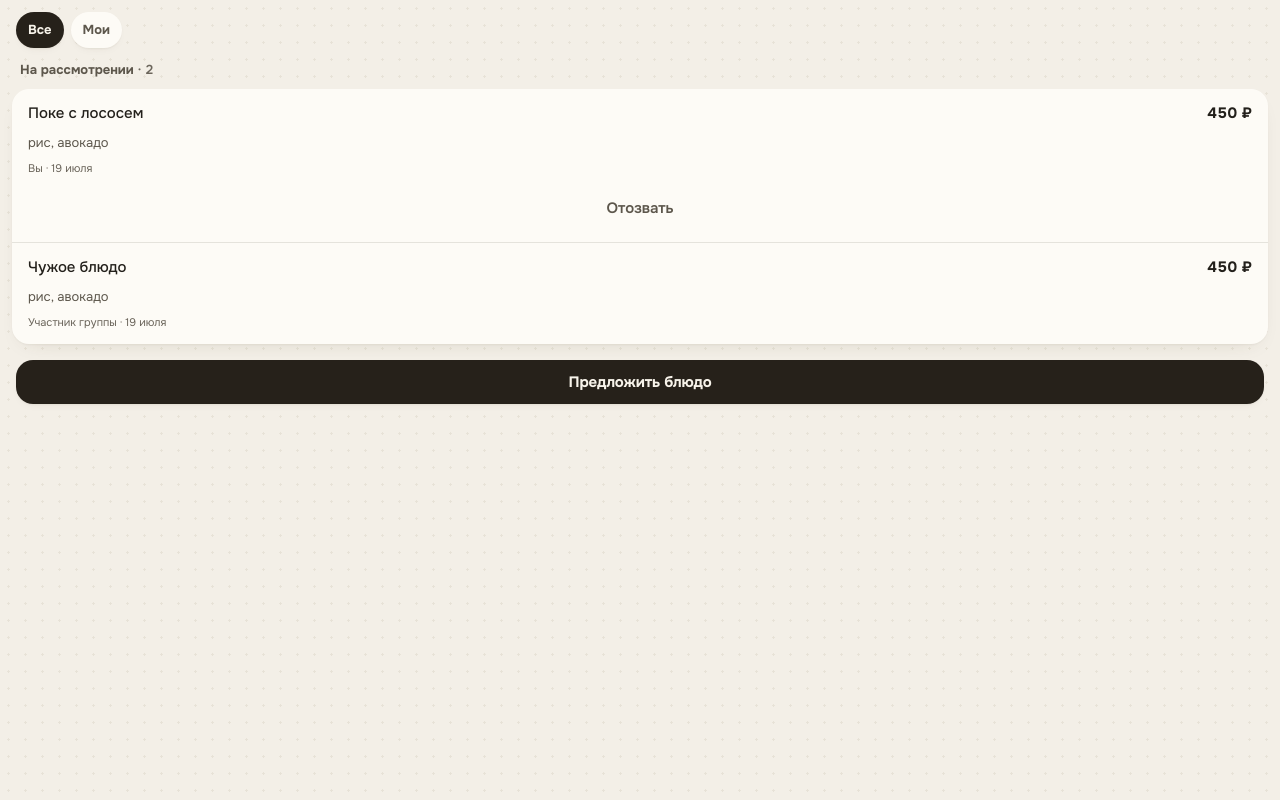
Test: SuggestionsPage — участник › фильтр «Мои» показывает только свои
The image size is (1280, 800).
Click the tab "Мои".
click(96, 30)  # box [71,12,122,48]
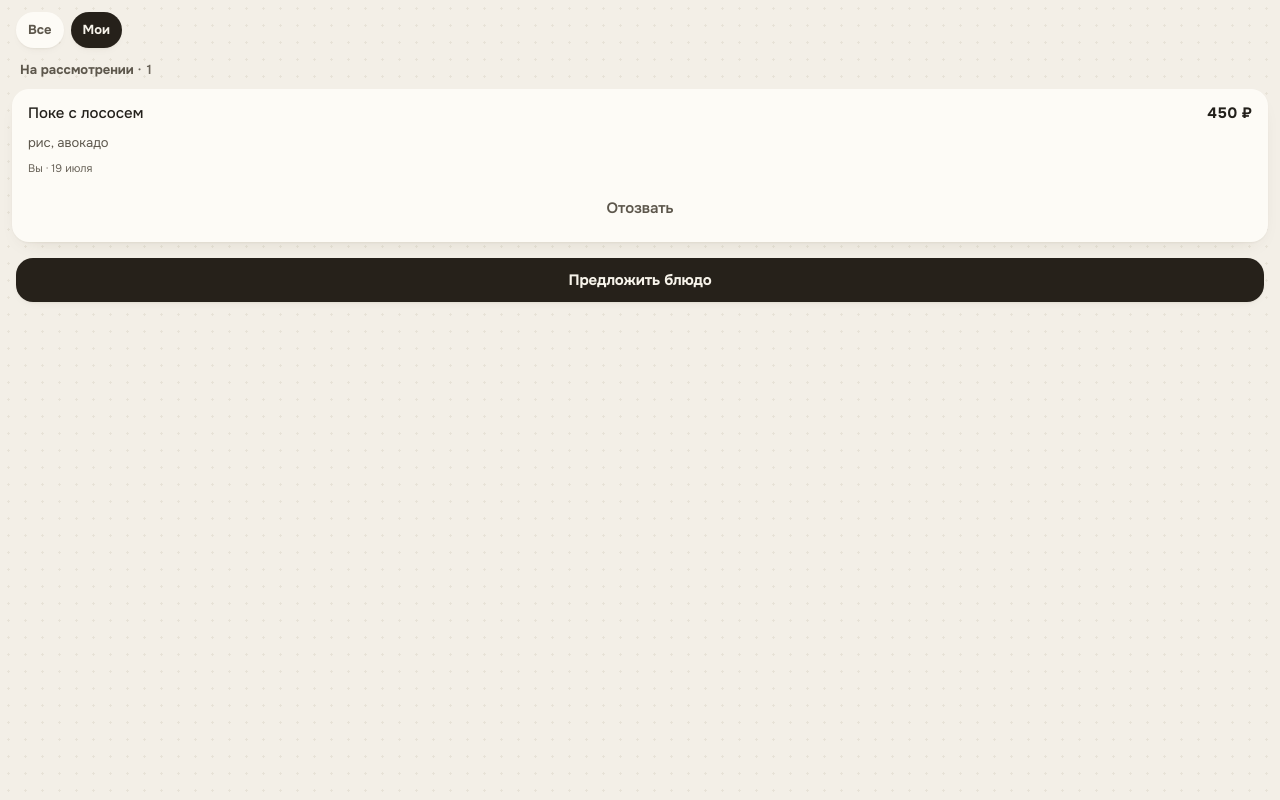
Expected: the text "Поке с лососем" is shown, [28,101,143,125]
Expected: the text "Чужое блюдо" is gone
